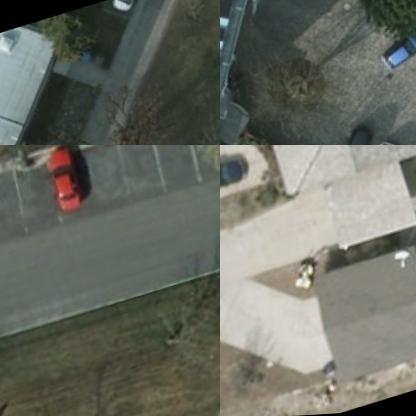car: (44, 146, 84, 214), (374, 26, 415, 73), (220, 153, 253, 202), (324, 122, 377, 144), (105, 0, 137, 15)
